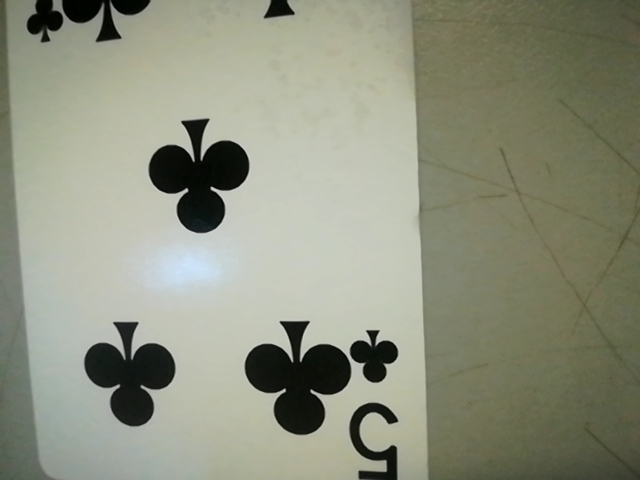mh 5: (349, 328, 404, 480)
